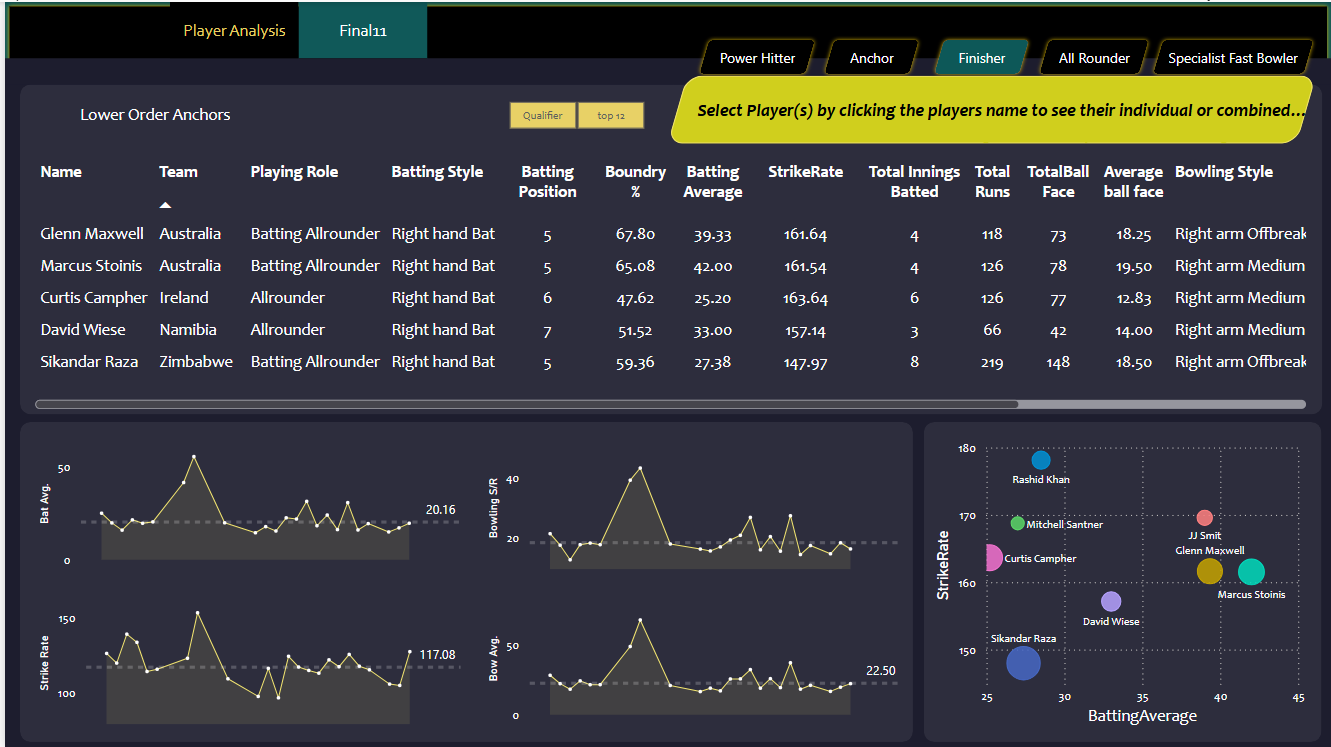

This screenshot's page, from the dashboard's own definition file:
{"tool":"powerbi","page":{"name":"New Finisher/Lower Order Anchors","canvas":[1280,720],"ordinal":2},"visuals":[{"type":"shape","box":[0,0,1280,76],"z":0},{"type":"shape","box":[0,54.3,1280,666.4],"z":1000},{"type":"shape","box":[0,79.3,1280,318.6],"z":2000},{"type":"shape","box":[13.9,79.3,1257.7,318.6],"z":3000},{"type":"shape","box":[887.1,405.1,384,308.9],"z":4000},{"type":"shape","box":[640,71,626.1,65.4],"z":5000},{"type":"card","fields":{"Values":["Key_Measure.BattingAverage"]},"box":[902.7,75.4,82.1,66.8],"z":6000},{"type":"card","fields":{"Values":["Key_Measure.Boundry %"]},"box":[992.5,75.4,72.3,66.8],"z":7000},{"type":"card","fields":{"Values":["Key_Measure.StrikeRate"]},"box":[1069.6,75.4,79.3,66.8],"z":8000},{"type":"card","fields":{"Values":["Key_Measure.Average ball face"]},"box":[1148.9,75.4,103,66.8],"z":9000},{"type":"slicer","fields":{"Values":["match result.state"]},"box":[460.5,89,180,40],"z":10000},{"type":"shape","box":[72.3,89,173.9,39],"z":11000},{"type":"shape","box":[666.4,86.3,194.8,44.5],"z":12000},{"type":"shape","box":[13.9,404.9,862,308.9],"z":13000},{"type":"areaChart","fields":{"Y":["Key_Measure.BattingAverage"],"Category":["match result.matchDate.Variation.Date Hierarchy.Day"]},"box":[27.8,416,417.4,136.3],"z":14000},{"type":"areaChart","fields":{"Category":["match result.matchDate.Variation.Date Hierarchy.Day"],"Y":["Key_Measure.Bowling Strike Rate"]},"box":[460.5,416,409,136.3],"z":15000},{"type":"areaChart","fields":{"Category":["match result.matchDate.Variation.Date Hierarchy.Day"],"Y":["Key_Measure.Bowling Average"]},"box":[460.5,566.3,409,136.3],"z":16000},{"type":"areaChart","fields":{"Y":["Key_Measure.StrikeRate"],"Category":["match result.matchDate.Variation.Date Hierarchy.Day"]},"box":[27.8,566.3,417.4,136.3],"z":17000},{"type":"actionButton","box":[159.3,0,124.3,54.3],"z":18000},{"type":"actionButton","box":[283.5,0,124.3,54.3],"z":19000},{"type":"actionButton","box":[666,32.6,120.6,41],"z":20000},{"type":"actionButton","box":[892.8,32.6,100.1,41],"z":21000},{"type":"actionButton","box":[994.1,32.6,114.6,41],"z":22000},{"type":"actionButton","box":[1103.9,32.6,162.9,41],"z":23000},{"type":"actionButton","box":[786.6,32.6,100.1,41],"z":24000},{"type":"shape","box":[649.1,82.3,610.6,43.9],"z":25000},{"type":"tableEx","fields":{"Values":["player info.name","player info.team","player info.playingRole","player info.battingStyle","Key_Measure.Batting Position","Key_Measure.Boundry %","Key_Measure.BattingAverage","Key_Measure.StrikeRate","Key_Measure.Total Innings Batted","Key_Measure.Total Runs","Key_Measure.TotalBallFace","Key_Measure.Average ball face"]},"box":[23.3,142.7,1237.7,255.2],"z":26000},{"type":"scatterChart","fields":{"X":["Key_Measure.BattingAverage"],"Y":["Key_Measure.StrikeRate"],"Series":["player info.name"],"Size":["Key_Measure.Total Runs"]},"box":[893.3,415.8,367.8,286.8],"z":27000}]}

Visuals, with their boxes on the page's 1280x720 design canvas (x1, y1, x2, y2). These are canvas units, not pixel positions in the 1331x747 screenshot, which may show the page scaled, cropped or inside an application window:
shape: 0/0/1280/76
shape: 0/54/1280/721
shape: 0/79/1280/398
shape: 14/79/1272/398
shape: 887/405/1271/714
shape: 640/71/1266/136
card - Key_Measure.BattingAverage: 903/75/985/142
card - Key_Measure.Boundry %: 992/75/1065/142
card - Key_Measure.StrikeRate: 1070/75/1149/142
card - Key_Measure.Average ball face: 1149/75/1252/142
slicer - match result.state: 460/89/640/129
shape: 72/89/246/128
shape: 666/86/861/131
shape: 14/405/876/714
areaChart - Key_Measure.BattingAverage x match result.matchDate.Variation.Date Hierarchy.Day: 28/416/445/552
areaChart - match result.matchDate.Variation.Date Hierarchy.Day x Key_Measure.Bowling Strike Rate: 460/416/870/552
areaChart - match result.matchDate.Variation.Date Hierarchy.Day x Key_Measure.Bowling Average: 460/566/870/703
areaChart - Key_Measure.StrikeRate x match result.matchDate.Variation.Date Hierarchy.Day: 28/566/445/703
actionButton: 159/0/284/54
actionButton: 284/0/408/54
actionButton: 666/33/787/74
actionButton: 893/33/993/74
actionButton: 994/33/1109/74
actionButton: 1104/33/1267/74
actionButton: 787/33/887/74
shape: 649/82/1260/126
tableEx - player info.name x player info.team: 23/143/1261/398
scatterChart - Key_Measure.BattingAverage x Key_Measure.StrikeRate: 893/416/1261/703
